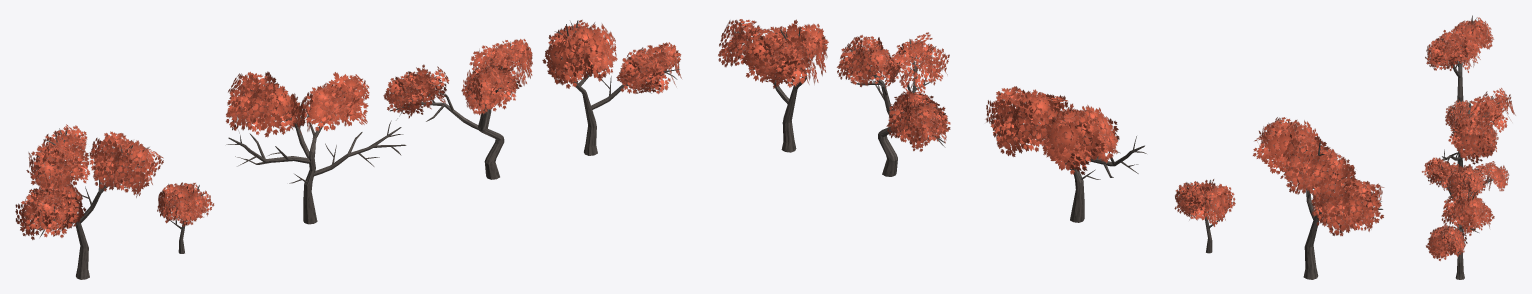
File: maple-pack.glb
The picture shows the model from 3 angles, left to right: view 1: azimuth 30°, elevation 25°; view 2: azimuth 150°, elevation 25°; view 3: azimuth 270°, elevation 25°; orthographic projection. The views are drawn at different scales.
Parts seen in each view (by area): view 1: MapleTree_5, MapleTree_3, MapleTree_2, MapleTree_1, MapleTree_4; view 2: MapleTree_5, MapleTree_3, MapleTree_2, MapleTree_1, MapleTree_4; view 3: MapleTree_3, MapleTree_1, MapleTree_5, MapleTree_2, MapleTree_4.
Boxes of the visible parts, x1,y1,x2,y2 form: MapleTree_5: (15, 124, 163, 279); MapleTree_3: (225, 71, 406, 224); MapleTree_2: (383, 39, 532, 179); MapleTree_1: (542, 19, 681, 155); MapleTree_4: (157, 182, 214, 253); MapleTree_5: (1253, 117, 1384, 279); MapleTree_3: (985, 86, 1146, 222); MapleTree_2: (837, 32, 950, 176); MapleTree_1: (718, 19, 828, 152); MapleTree_4: (1174, 179, 1235, 253); MapleTree_3: (1441, 87, 1515, 175); MapleTree_1: (1426, 188, 1494, 279); MapleTree_5: (1425, 15, 1494, 107); MapleTree_2: (1421, 157, 1509, 246); MapleTree_4: (1445, 99, 1473, 131).
Bounding box in the file's own units: 34.21 × 7.29 × 6.68.
Materials: 2 (2 with a texture image).
